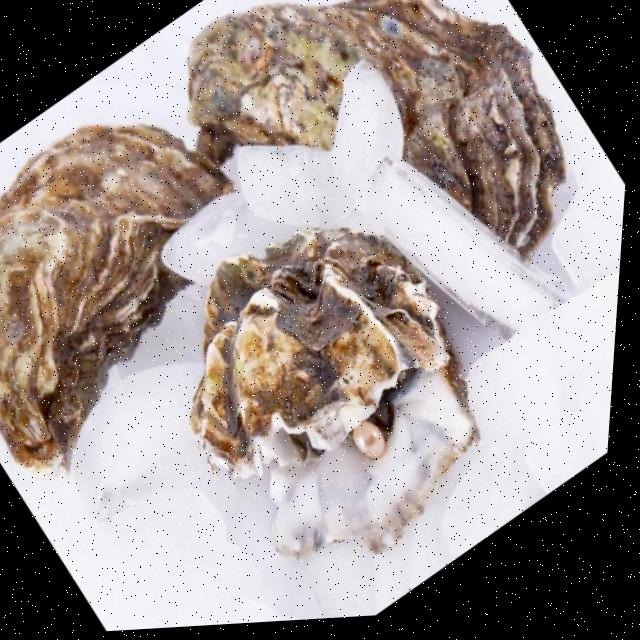Oyster-Indeterminate: (131, 0, 640, 400), (0, 53, 330, 508)
Oyster-Open: (101, 155, 555, 627)
